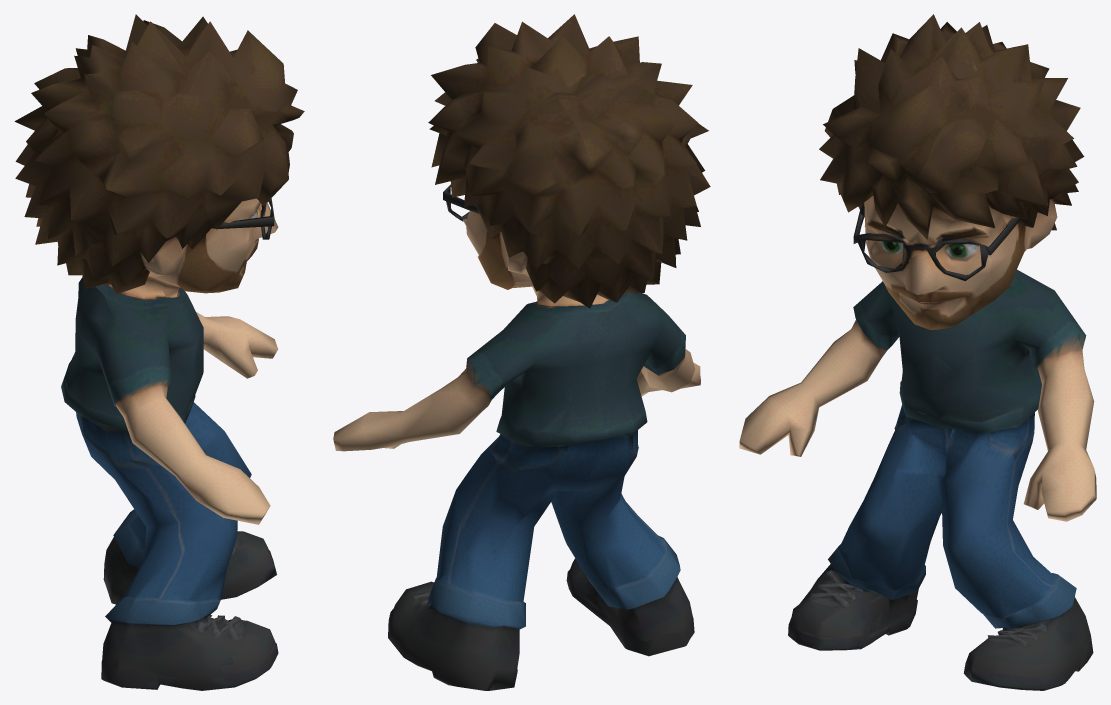
Rendered from thomasdimson.obj.
3 views of the same model, side by side, from view 1: azimuth 30°, elevation 25°; view 2: azimuth 150°, elevation 25°; view 3: azimuth 270°, elevation 25° (orthographic).
Parts seen in each view (by area): view 1: thomasdimson; view 2: thomasdimson; view 3: thomasdimson.
Boxes of the visible parts, bbox=[...] form: thomasdimson: bbox=[14, 14, 304, 690]; thomasdimson: bbox=[333, 14, 710, 690]; thomasdimson: bbox=[739, 14, 1096, 690].
Size of the model in its own units: 236 by 466 by 244.
Materials: 1 (1 with a texture image).
